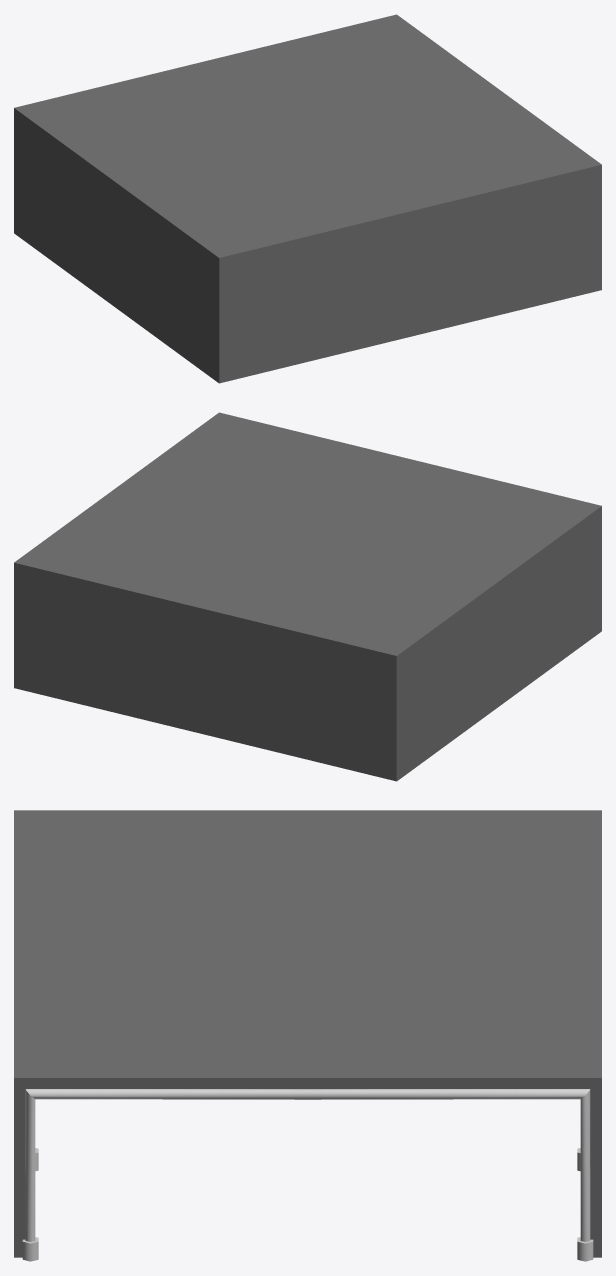
The model's file is Pfb_Tent__3.fbx.
3 renders of one model, top to bottom at view 1: azimuth 30°, elevation 25°; view 2: azimuth 150°, elevation 25°; view 3: azimuth 270°, elevation 25°, orthographic. The views are drawn at different scales.
Visible parts, largest first — view 1: MAT_Tent_Roof 1; view 2: MAT_Tent_Roof 1; view 3: MAT_Tent_Roof 1, Mat_Tile_Metal_01 3.
Part boxes in pixels (bbox=[...]): MAT_Tent_Roof 1: bbox=[14, 14, 601, 383]; MAT_Tent_Roof 1: bbox=[14, 412, 601, 781]; MAT_Tent_Roof 1: bbox=[14, 810, 601, 1257]; Mat_Tile_Metal_01 3: bbox=[22, 1089, 593, 1261].
Bounding box in the file's own units: 9.68 × 2.99 × 8.86.
2 materials, 2 textured.
